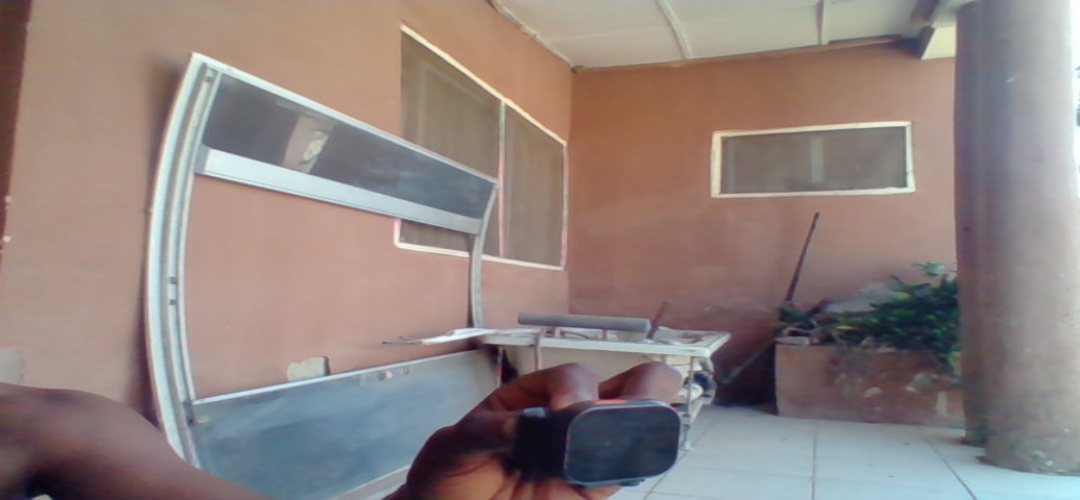smart_watch: (521, 404, 683, 483)
